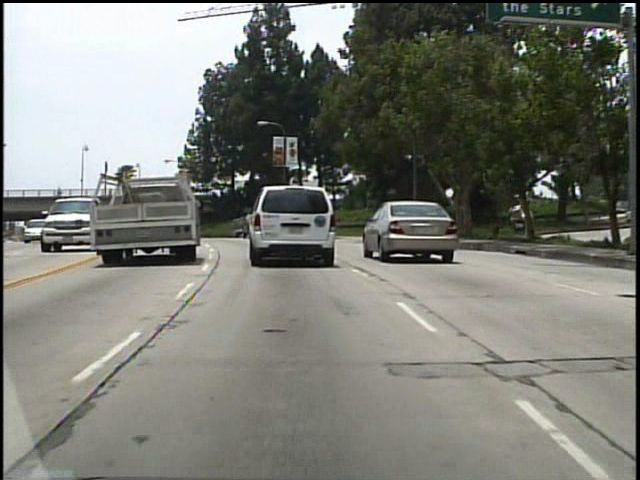person: (54, 183, 65, 203)
